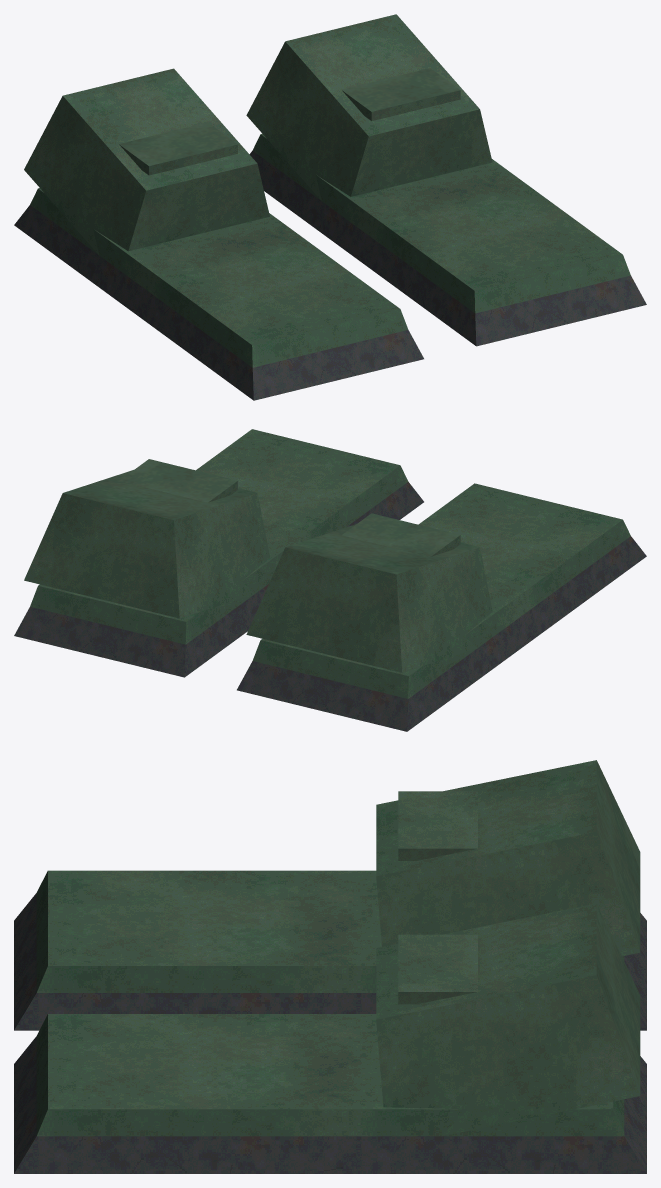
The model's file is slippers.glb.
3 renders of one model, top to bottom at view 1: azimuth 30°, elevation 25°; view 2: azimuth 150°, elevation 25°; view 3: azimuth 270°, elevation 25°, orthographic. The views are drawn at different scales.
Visible parts, largest first — view 1: slippers; view 2: slippers; view 3: slippers.
Part boxes in pixels (x1,y1,x2,y2): slippers: (14,14,646,400); slippers: (14,429,646,731); slippers: (14,760,646,1173).
Bounding box in the file's own units: 0.265 × 0.0877 × 0.28.
Materials: 2 (2 with a texture image).
